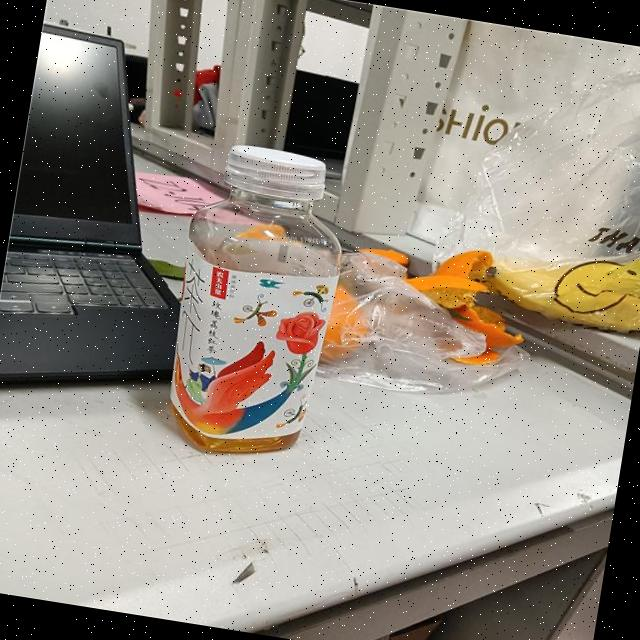orange-peel: (157, 208, 341, 466), (318, 226, 536, 391)
